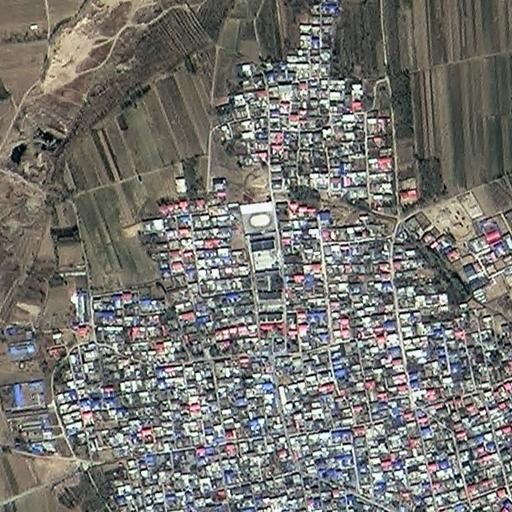school: (239, 198, 285, 323)
